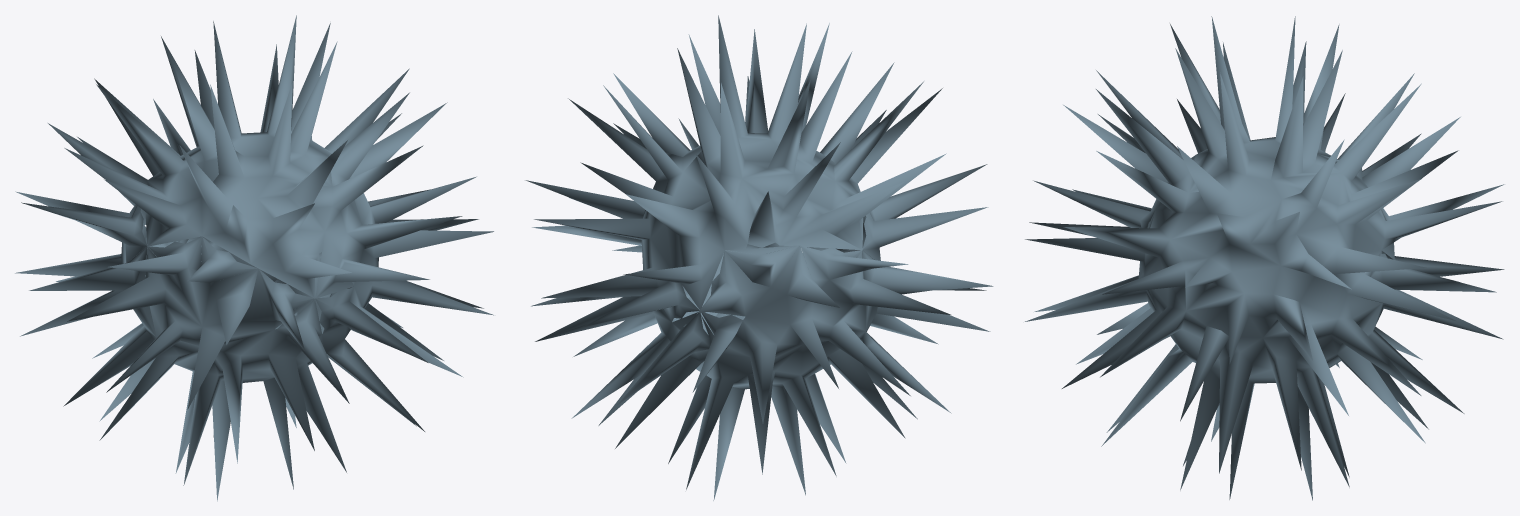
Rendered from virus_1.fbx.
The picture shows the model from 3 angles, left to right: view 1: azimuth 30°, elevation 25°; view 2: azimuth 150°, elevation 25°; view 3: azimuth 270°, elevation 25°; orthographic projection. The views are drawn at different scales.
Parts seen in each view (by area): view 1: GeoSphere0; view 2: GeoSphere0; view 3: GeoSphere0.
Part boxes in pixels (box(x1,y1,x2,y2)): GeoSphere0: box(15, 15, 493, 501); GeoSphere0: box(525, 15, 993, 500); GeoSphere0: box(1025, 16, 1504, 500).
Size of the model in its own units: 0.9932 by 0.97 by 0.9726.
